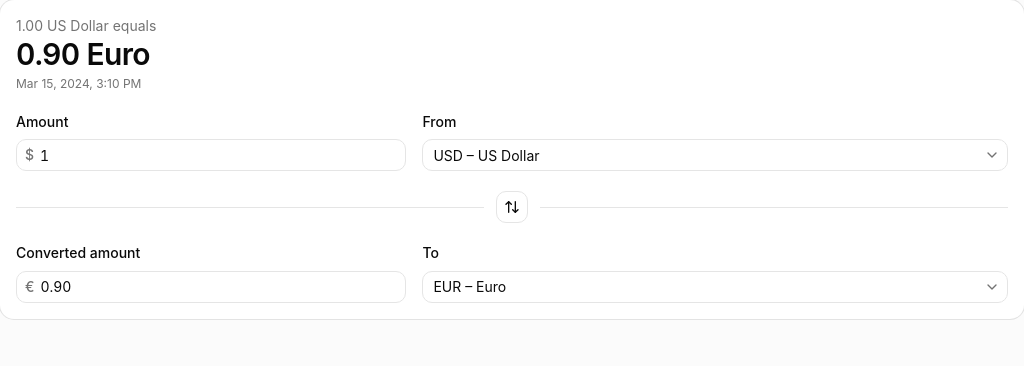
Test: CurrencyConverter › converts into the selected currency
This screenshot has width=1024, height=366.
Expected: the field labelled "Converted amount" holds "0.90", [34,270,405,302]
Step 1. Replace the text in the dropdown labelled "To" with "Pound" → (702, 286), box [423,270,980,302]
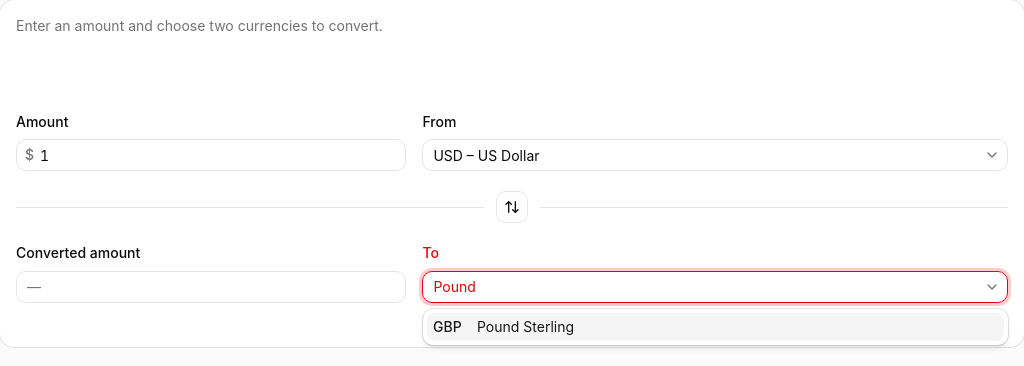
Step 2. Click the option "GBP Pound Sterling" → (526, 326), box [427,313,1004,341]
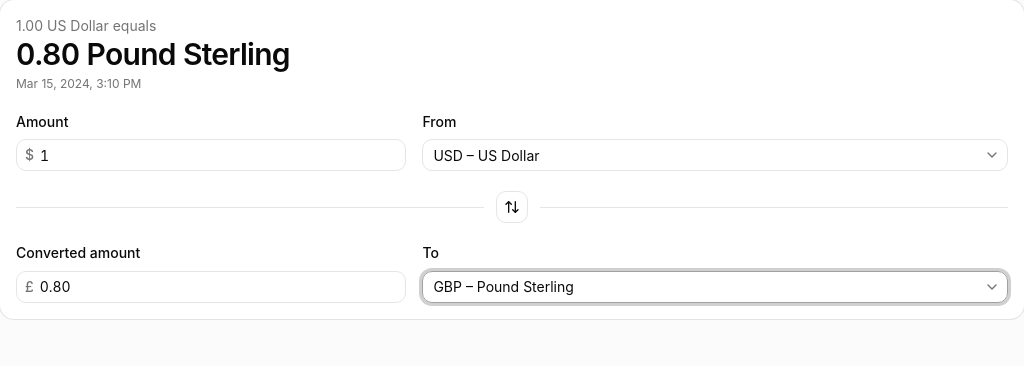
Now the dropdown labelled "To" holds "GBP – Pound Sterling", box [423,270,980,302]
Now the field labelled "Converted amount" holds "0.80", box [34,270,405,302]
